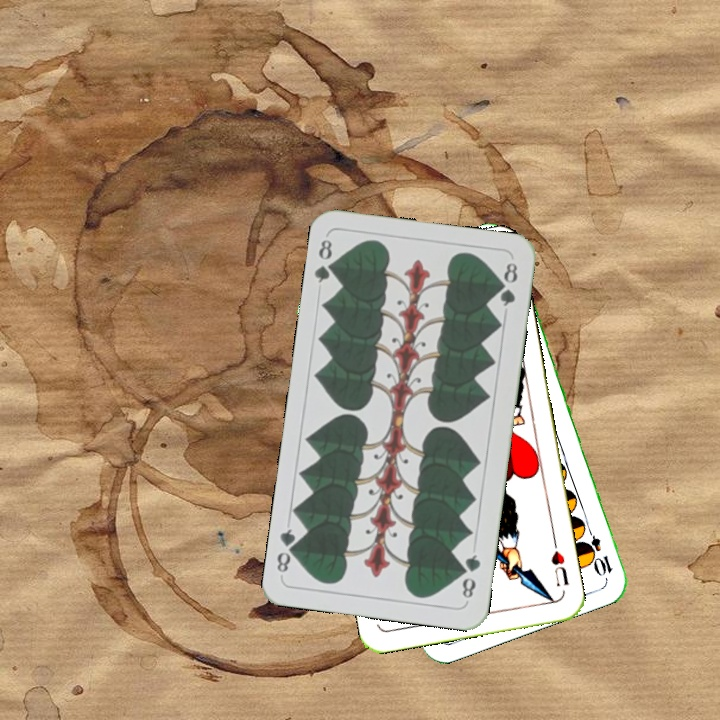E10: (580, 521, 615, 579)
G8: (310, 235, 340, 286), (457, 550, 483, 604)
HU: (547, 536, 572, 589)
